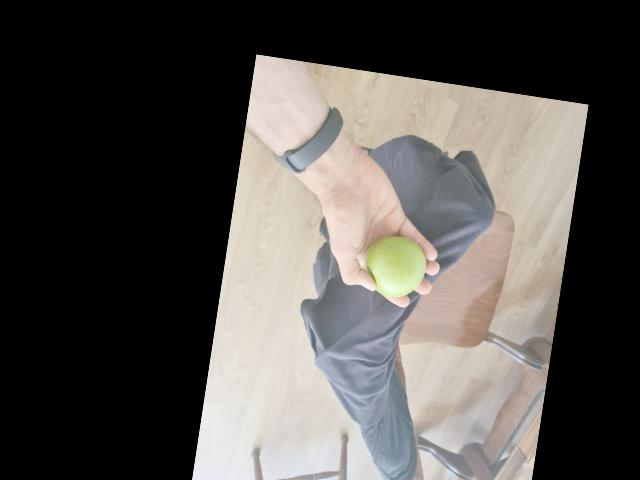apple: (356, 228, 430, 299)
